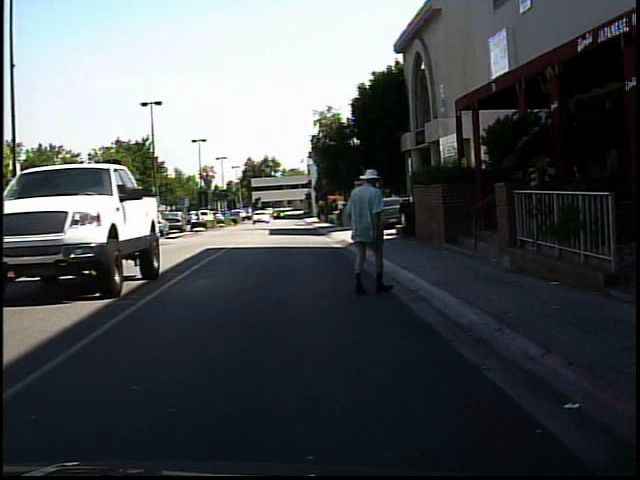person: (339, 162, 398, 299), (40, 198, 68, 266), (191, 203, 207, 228)
